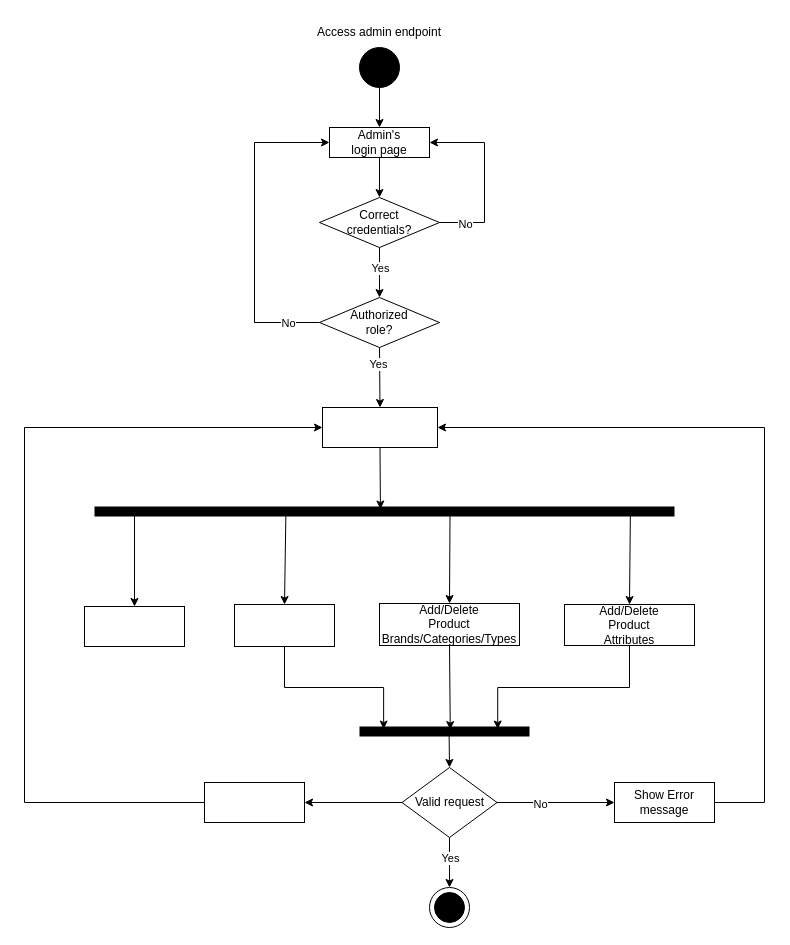
This 790x945 diagram has some shape labels left out. Here are the shapes that lost their labels. From the top down, the centre of each, then its label:
At point 380,427: "Access admin panel".
At point 134,626: "Logout".
At point 284,625: "Add/Delete Products".
At point 254,802: "Show Success message".
